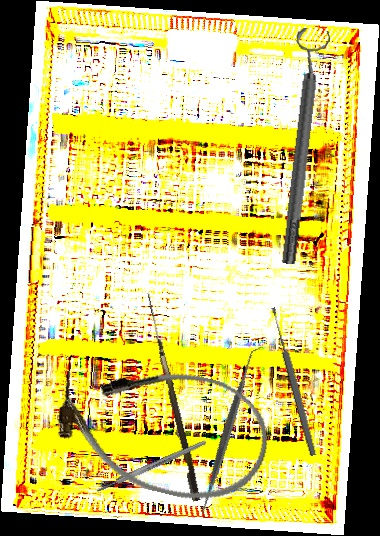Cannula: (43, 344, 281, 516)
Fixation Ring: (268, 27, 334, 266)
Hook Surgical: (137, 292, 205, 502)
Scalpel Handle: (95, 439, 208, 494)
Spatula Surgical: (141, 346, 314, 519)
Surgical Spoon: (269, 306, 318, 457)
